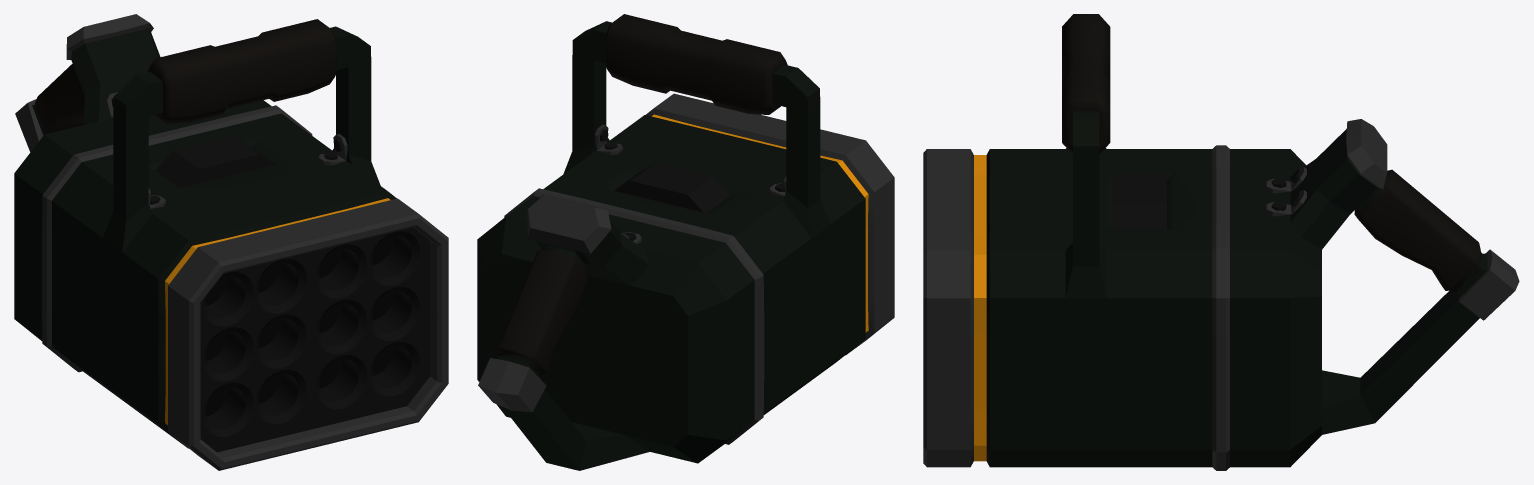
The model's file is mrl.fbx.
3 views of the same model, side by side, from view 1: azimuth 30°, elevation 25°; view 2: azimuth 150°, elevation 25°; view 3: azimuth 270°, elevation 25° (orthographic). The views are drawn at different scales.
Parts seen in each view (by area): view 1: polySurface44; view 2: polySurface44; view 3: polySurface44.
Boxes of the visible parts, x1,y1,x2,y2 form: polySurface44: (14,14,448,470); polySurface44: (477,14,894,470); polySurface44: (923,14,1519,470).
Size of the model in its own units: 17.34 by 21.83 by 32.31.
